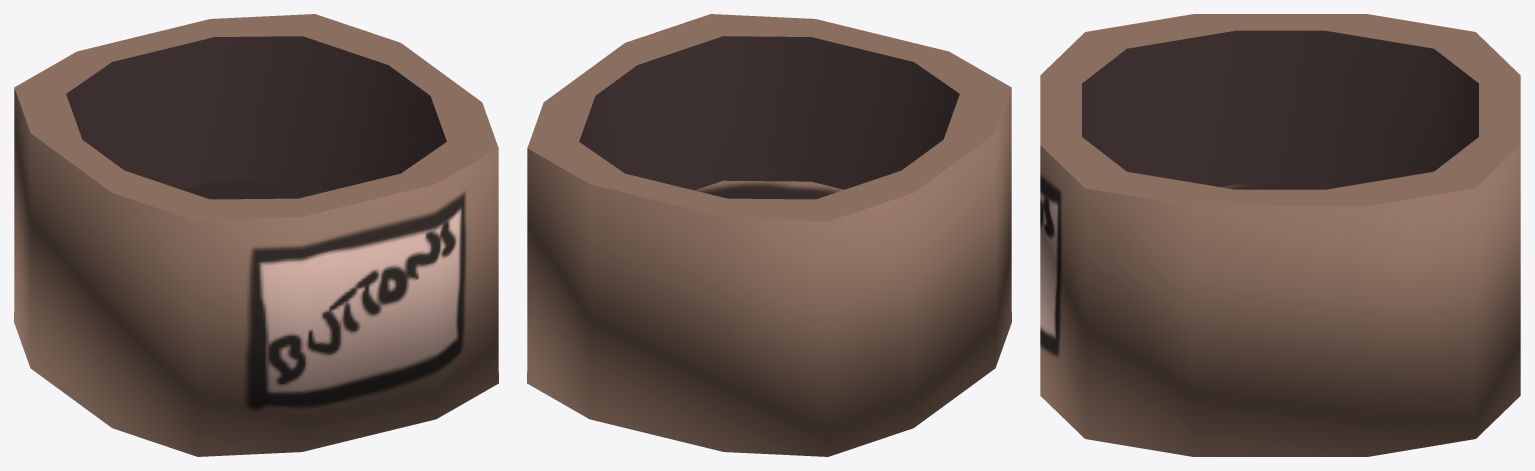
Rendered from BasketButtons.fbx.
3 renders of one model, left to right at view 1: azimuth 30°, elevation 25°; view 2: azimuth 150°, elevation 25°; view 3: azimuth 270°, elevation 25°, orthographic. The views are drawn at different scales.
Parts seen in each view (by area): view 1: BasketButtons; view 2: BasketButtons; view 3: BasketButtons.
Boxes of the visible parts, bbox=[...] form: BasketButtons: bbox=[14, 14, 498, 456]; BasketButtons: bbox=[527, 14, 1011, 456]; BasketButtons: bbox=[1040, 14, 1520, 456].
Bounding box in the file's own units: 189 × 115 × 200.
